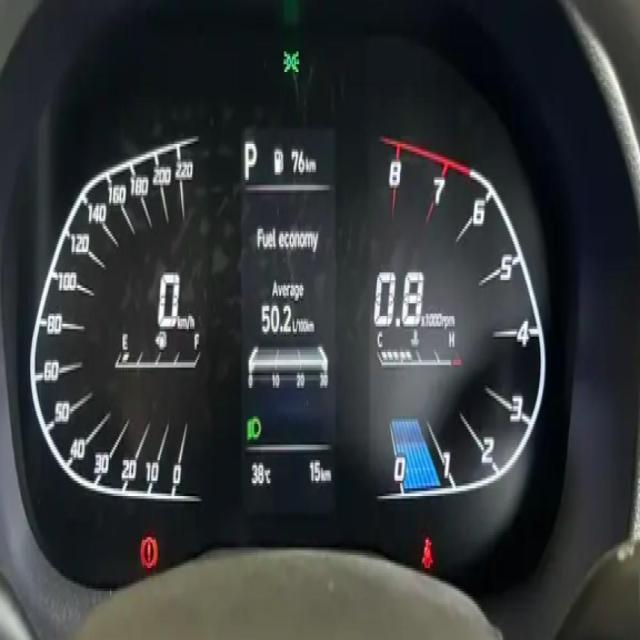Seat Belt: (420, 538, 434, 569)
